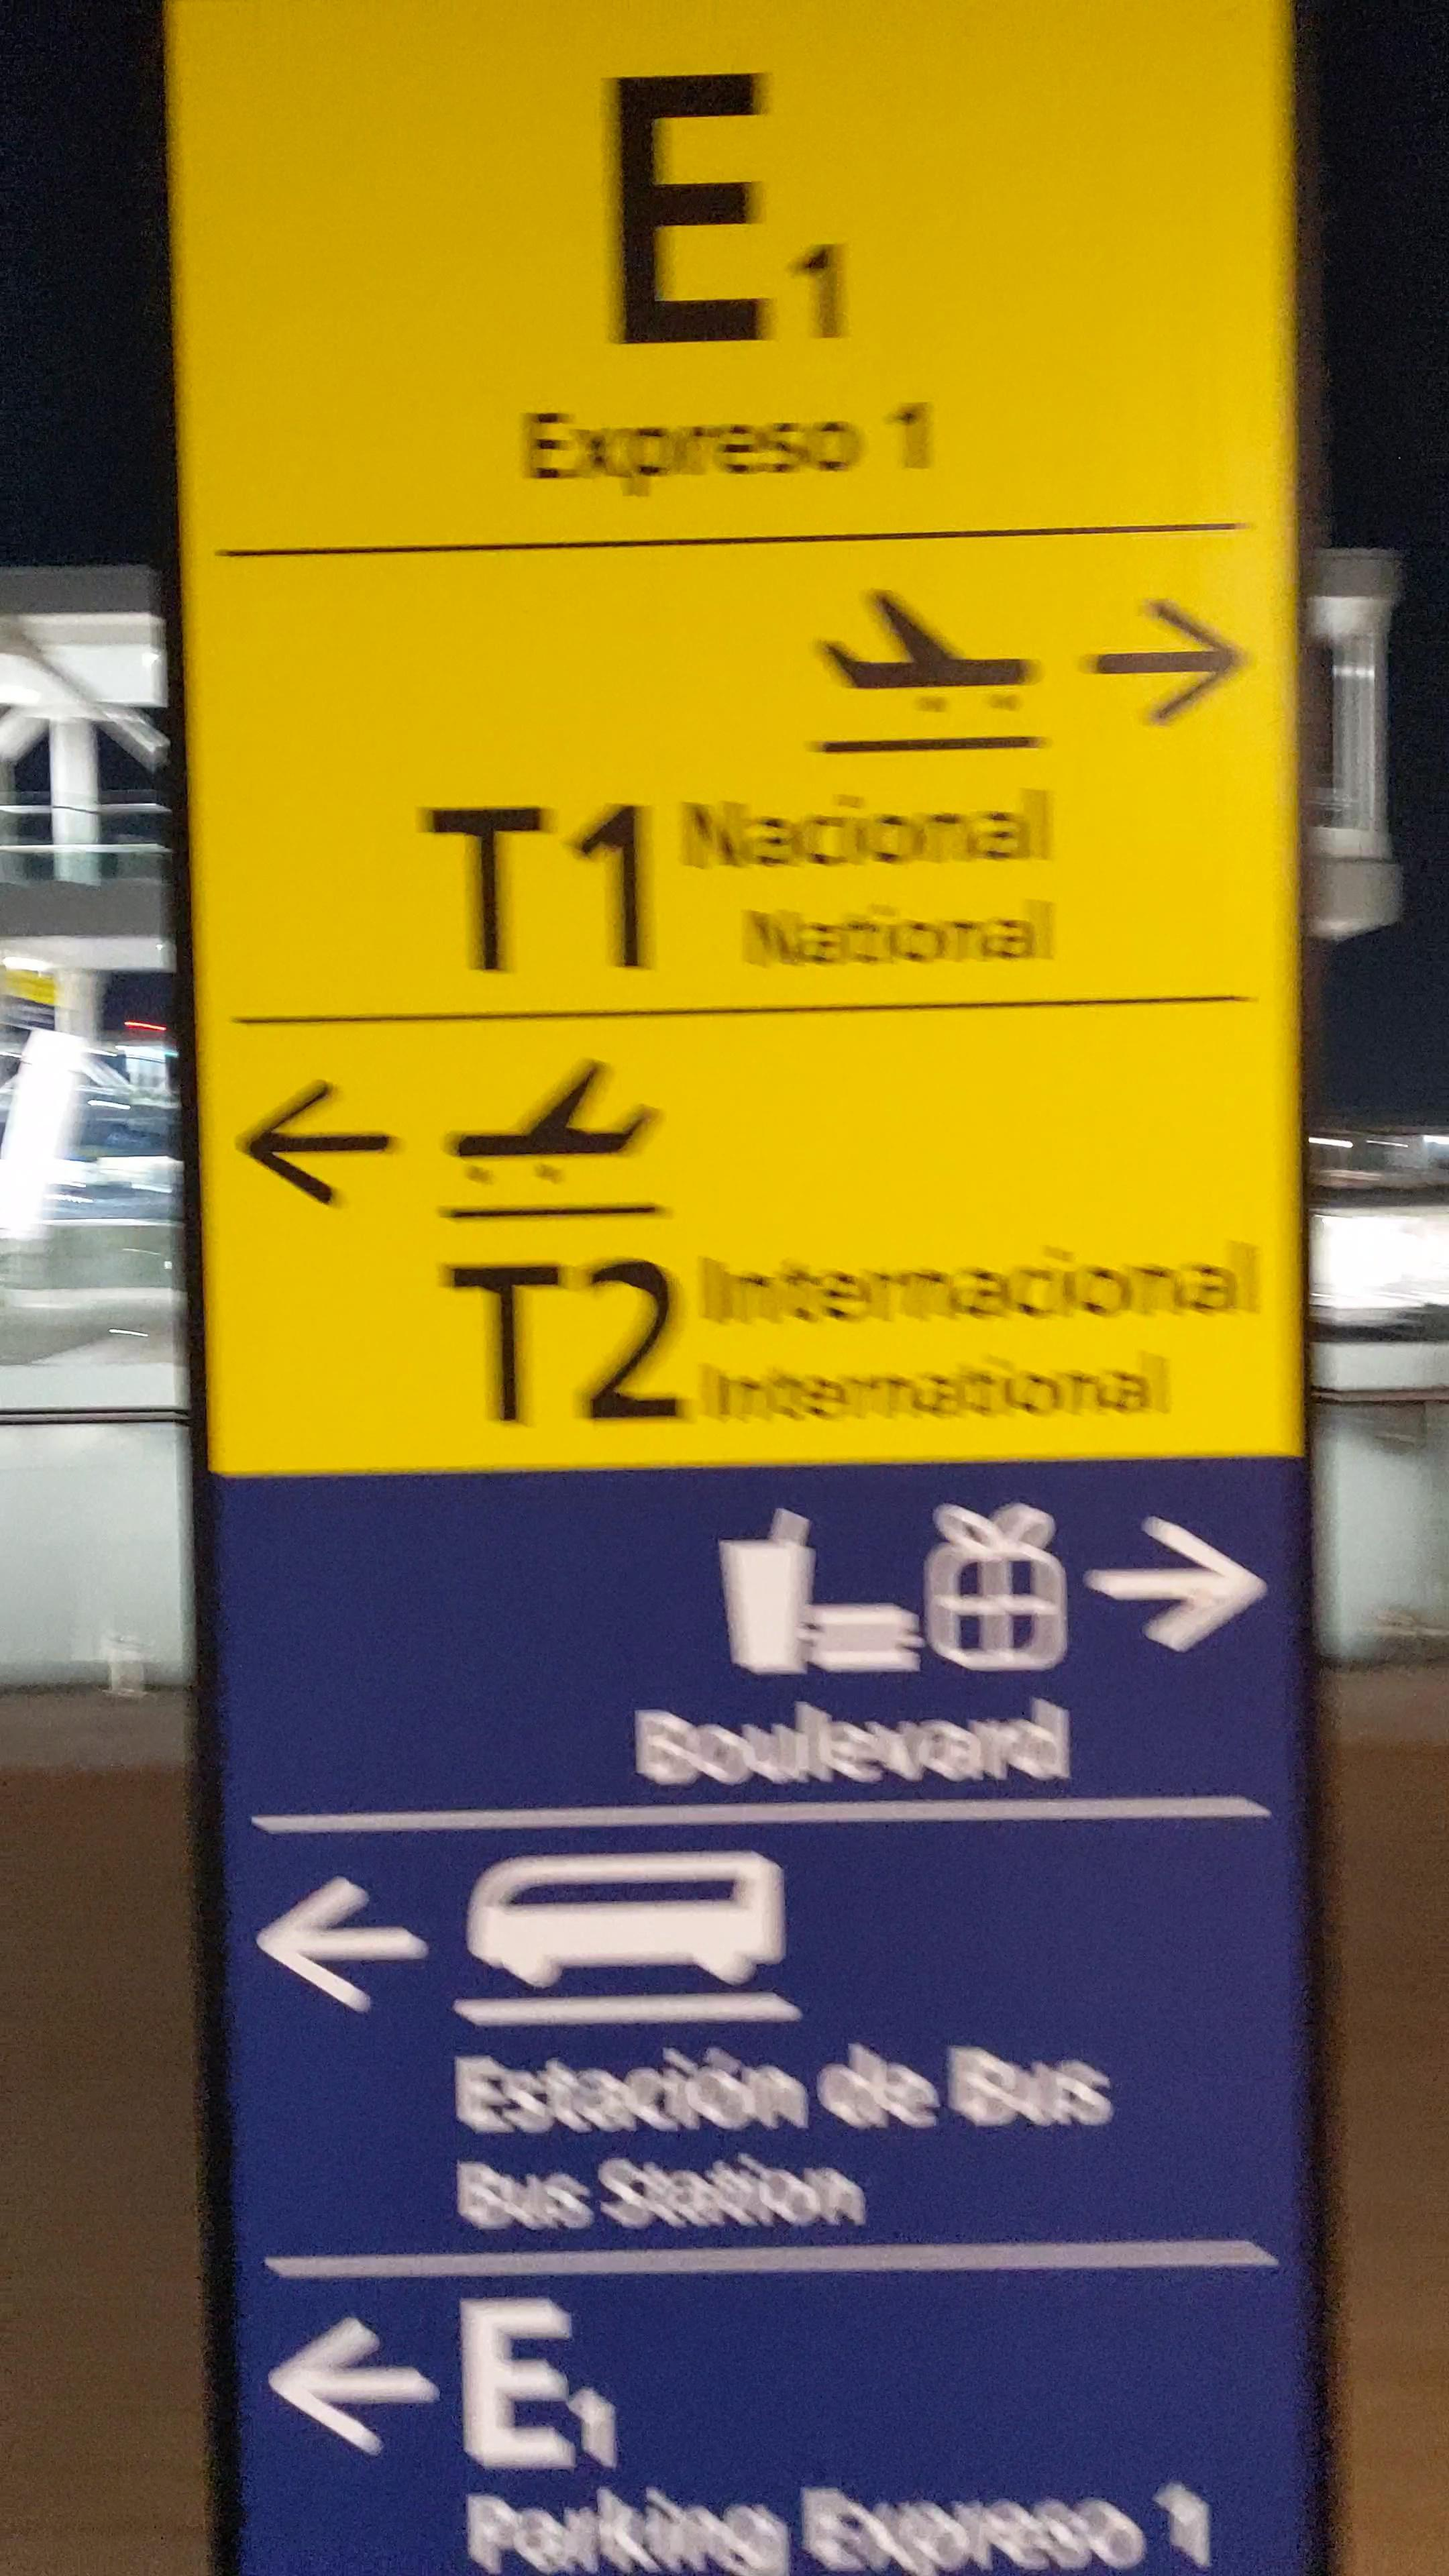airplane symbol: (803, 577, 1046, 722), (437, 1049, 667, 1194)
thin left arrow: (260, 2311, 441, 2463), (223, 1067, 410, 1210), (253, 1868, 430, 2019)
thin right arrow: (1088, 1506, 1272, 1660), (1069, 587, 1249, 734)
